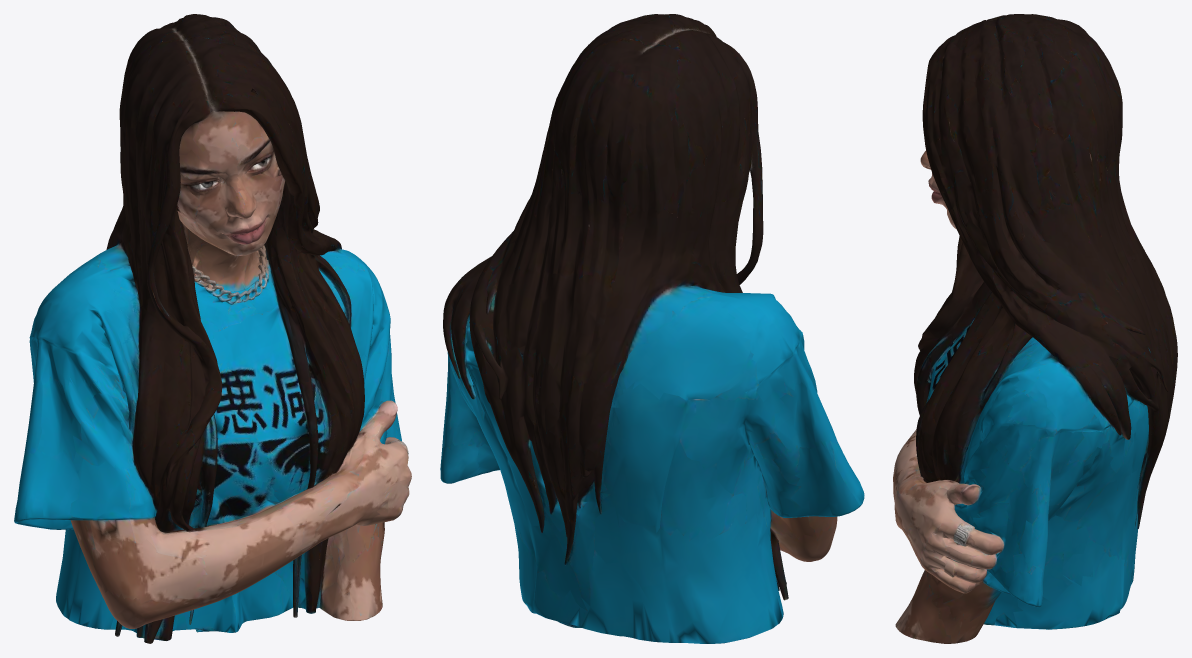
The model's file is model-lite.glb.
3 views of the same model, side by side, from view 1: azimuth 30°, elevation 25°; view 2: azimuth 150°, elevation 25°; view 3: azimuth 270°, elevation 25° (orthographic). The views are drawn at different scales.
Parts seen in each view (by area): view 1: mesh_node; view 2: mesh_node; view 3: mesh_node.
Part boxes in pixels (x1=…): mesh_node: x1=14, y1=14, x2=411, y2=643; mesh_node: x1=440, y1=14, x2=864, y2=643; mesh_node: x1=893, y1=14, x2=1177, y2=643.
Bounding box in the file's own units: 1.41 × 1.9 × 0.8756.
Materials: 1 (1 with a texture image).
